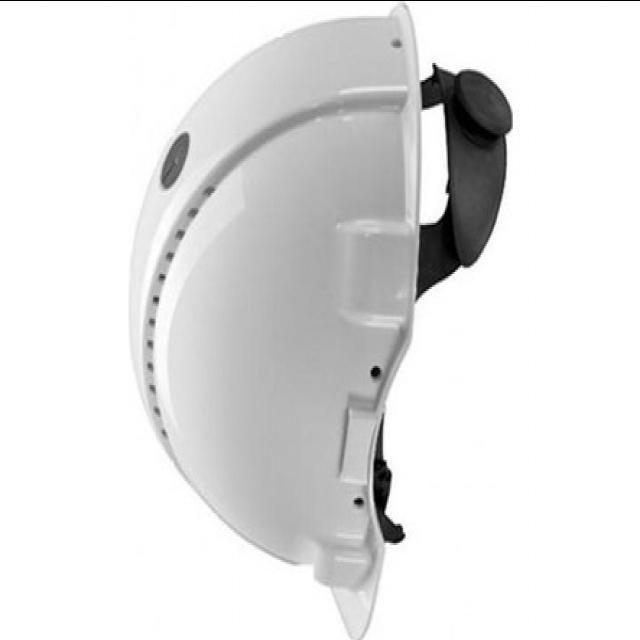safety_helmet: (129, 0, 516, 640)
